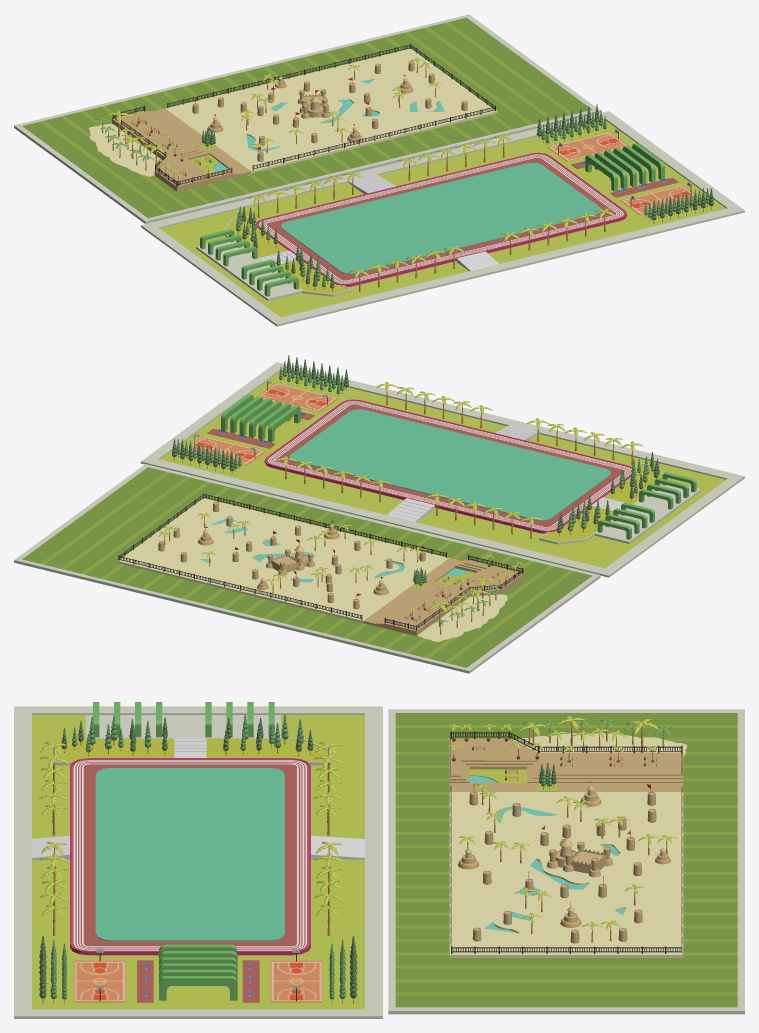
File: D10_Park_2.1.fbx
3 renders of one model, top to bottom at view 1: azimuth 30°, elevation 25°; view 2: azimuth 150°, elevation 25°; view 3: azimuth 270°, elevation 25°, orthographic. The views are drawn at different scales.
Parts seen in each view (by area): view 1: Plane.1932, Plane.1929, Cube.215, Plane.1928, Plane.1927, Cube.218, Cube.211, Cube.177, GP_Layer.004, Plane.1930, Plane.1931, Cube.179 (+9 smaller); view 2: Plane.1932, Plane.1929, Cube.215, Plane.1928, Plane.1927, Cube.218, Cube.211, Cube.177, GP_Layer.004, Plane.1930, Plane.1931, Cube.178 (+8 smaller); view 3: Plane.1932, Plane.1929, Cube.215, Plane.1928, Plane.1927, Cube.218, Cube.211, Plane.1930, Cube.177, Plane.1931, GP_Layer.004, Cube.223 (+11 smaller).
Part boxes in pixels (x1,y1,x2,y2): Plane.1932: (14,14,600,223); Plane.1929: (141,111,744,326); Cube.215: (165,49,497,173); Plane.1928: (280,162,601,274); Plane.1927: (256,152,626,286); Cube.218: (112,108,250,191); Cube.211: (536,104,713,223); Cube.177: (585,143,664,191); GP_Layer.004: (88,123,162,176); Plane.1930: (224,215,351,296); Plane.1931: (196,240,302,300); Cube.179: (241,259,298,296); Plane.1932: (14,464,600,673); Plane.1929: (140,362,744,577); Cube.215: (116,498,448,622); Plane.1928: (289,409,611,520); Plane.1927: (264,399,632,533); Cube.218: (363,558,523,635); Cube.211: (172,355,349,474); Cube.177: (221,394,300,442); GP_Layer.004: (417,594,507,642); Plane.1930: (539,463,662,544); Plane.1931: (594,484,701,543); Cube.178: (597,502,654,539); Plane.1932: (388,709,744,1014); Plane.1929: (14,706,382,1018); Cube.215: (449,791,683,957); Plane.1928: (95,768,284,941); Plane.1927: (70,758,310,955); Cube.218: (449,738,683,791); Cube.211: (39,935,357,1003); Plane.1930: (54,738,330,765); Cube.177: (159,944,237,1000); Plane.1931: (85,715,280,738); GP_Layer.004: (513,733,687,757); Cube.223: (451,946,681,953).
Size of the model in its own units: 21443 by 1252 by 21365.
18 materials, 8 textured.
